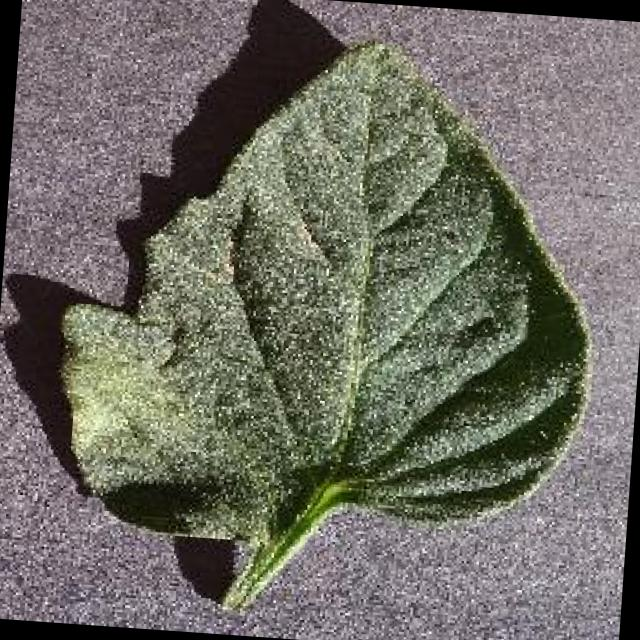Tomato_Healthy: (9, 10, 626, 588)
